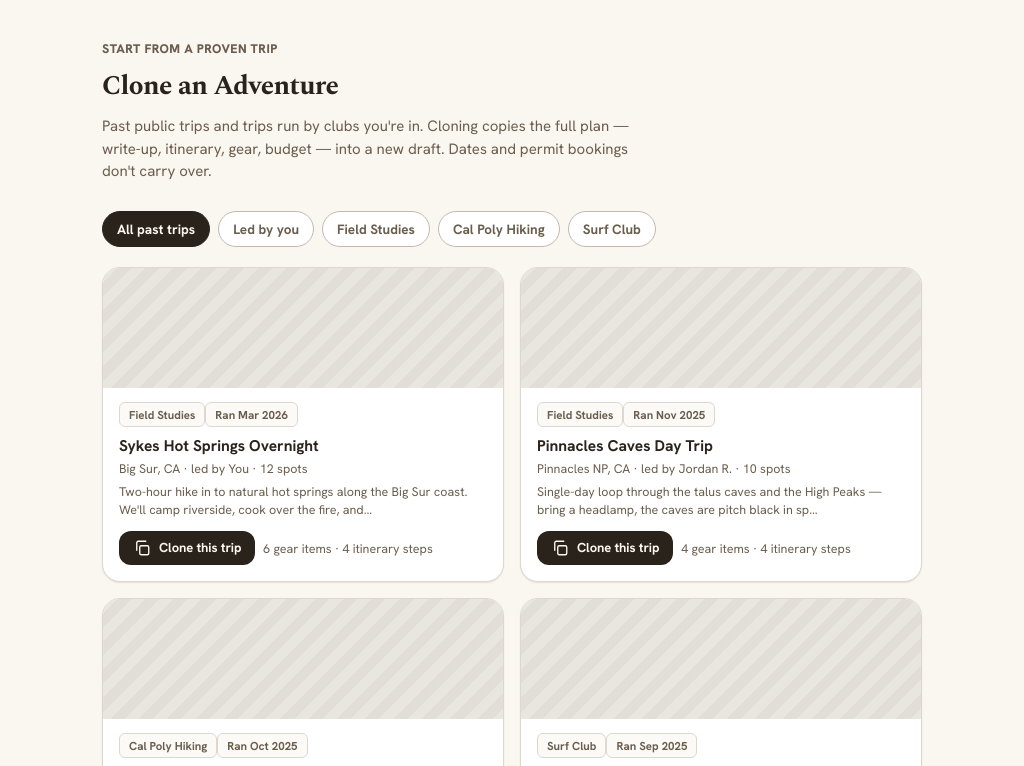
Test: Clone an Adventure filter › a club chip keeps only that club's trips
Click the button "Surf Club" at x=612, y=228, box [568,210,656,246]
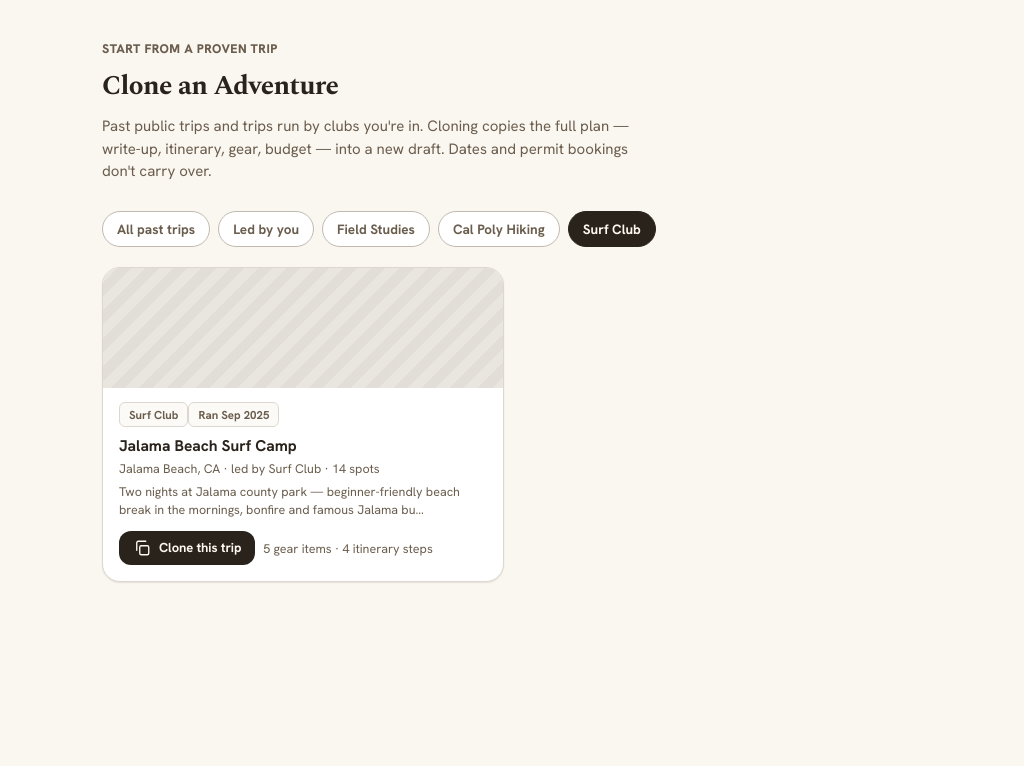
Expected: the text "Jalama Beach Surf Camp" is shown, [119,434,297,456]
Expected: the text "Sykes Hot Springs Overnight" is gone
